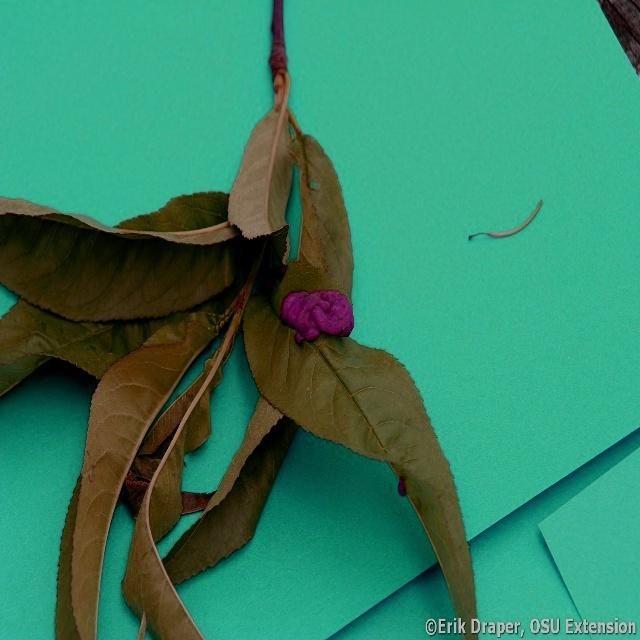leaf_curl: (231, 69, 377, 405)
